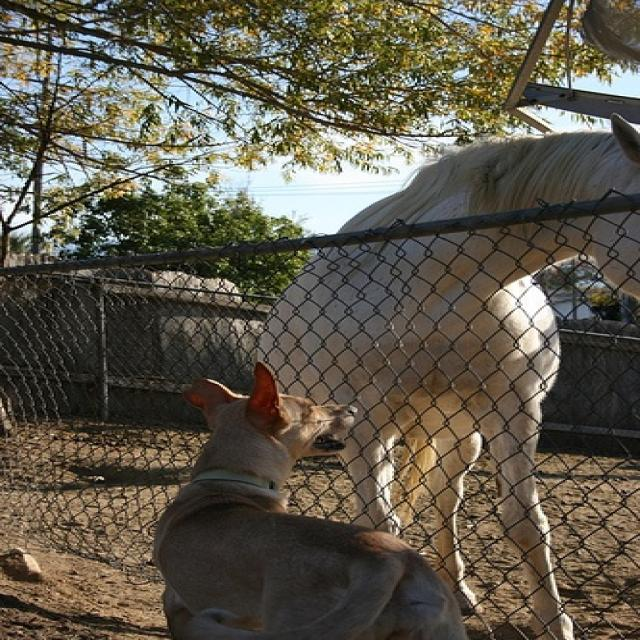dog: (154, 362, 469, 639)
horse: (261, 129, 638, 639)
